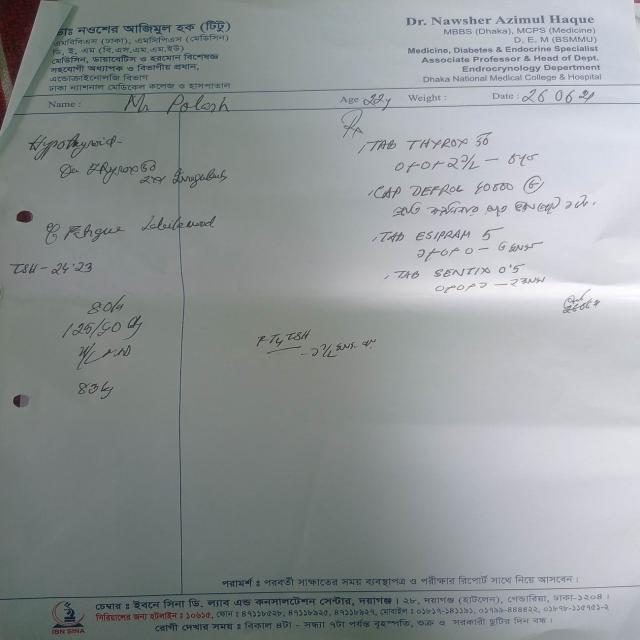Defrol: (412, 180, 472, 203)
Esipram: (414, 229, 475, 247)
Sentix: (433, 262, 493, 282)
Thyrox: (408, 135, 469, 155)
